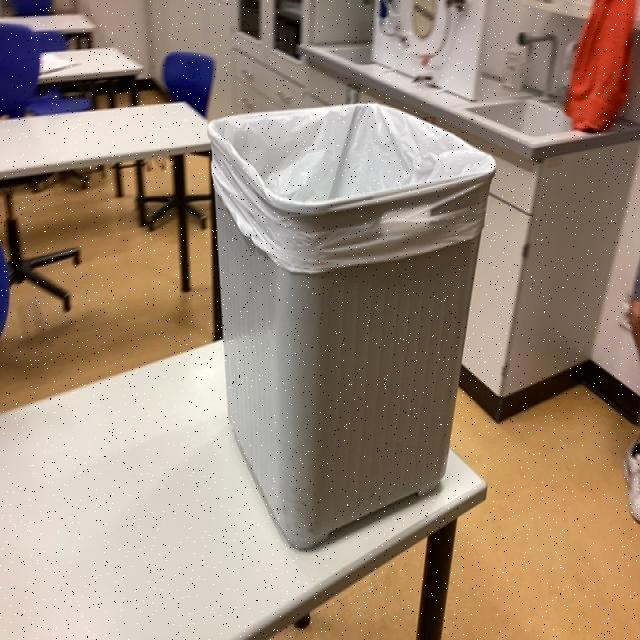garbage container: (171, 68, 507, 584)
